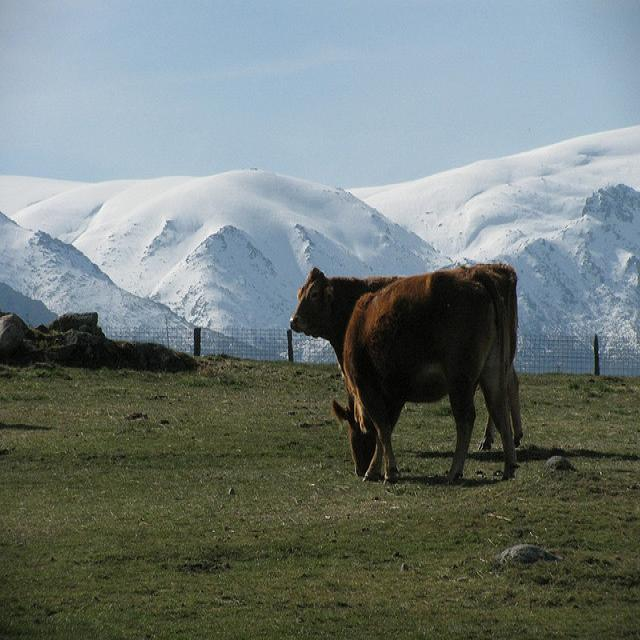cow: (288, 260, 522, 449), (326, 264, 517, 481)
